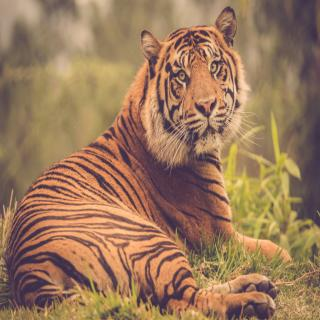Tiger: (3, 5, 296, 319)
